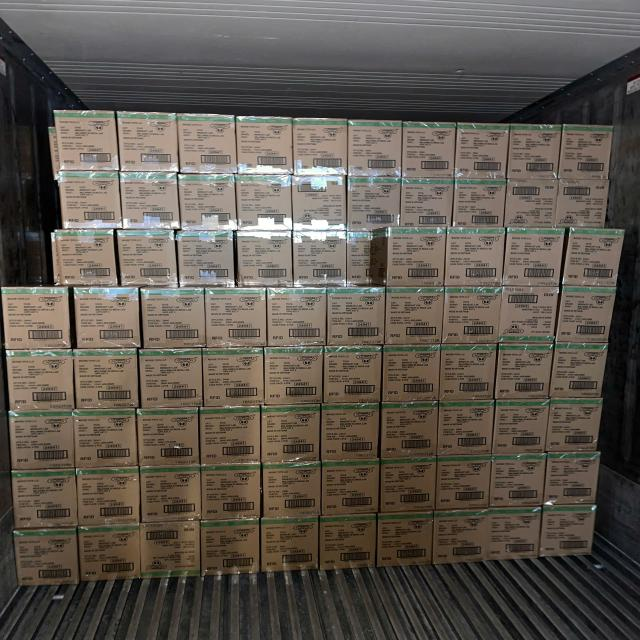Carton: (0, 289, 69, 349), (5, 351, 73, 410), (51, 116, 118, 175), (13, 532, 78, 589), (8, 413, 74, 469), (142, 294, 205, 352), (74, 350, 138, 407), (75, 469, 139, 526), (74, 296, 139, 352), (117, 118, 179, 176), (137, 410, 200, 467), (74, 411, 137, 468), (12, 473, 76, 529), (206, 294, 267, 352), (200, 409, 262, 466), (139, 350, 202, 406), (56, 175, 120, 230), (178, 118, 238, 176), (120, 176, 181, 233), (325, 344, 384, 402), (264, 346, 323, 404), (327, 290, 386, 348), (443, 229, 503, 286), (268, 293, 328, 350), (143, 522, 203, 579), (498, 285, 558, 342), (201, 348, 262, 404), (51, 230, 114, 284), (386, 290, 444, 348), (503, 234, 563, 290), (563, 234, 623, 290), (118, 233, 178, 289), (200, 523, 261, 578), (77, 528, 139, 582), (438, 343, 496, 400), (442, 288, 500, 345), (558, 287, 617, 343), (387, 232, 446, 288), (262, 407, 322, 462), (263, 464, 323, 519), (140, 469, 201, 523), (202, 467, 263, 521), (381, 344, 438, 401), (235, 121, 292, 178), (238, 178, 296, 234), (179, 176, 237, 232), (234, 234, 292, 290), (322, 405, 381, 460), (178, 235, 237, 290), (497, 344, 552, 401), (383, 403, 440, 458), (322, 460, 379, 515), (320, 518, 378, 572), (378, 459, 434, 514), (291, 178, 346, 234), (296, 121, 350, 178), (437, 402, 492, 457), (487, 506, 542, 561), (349, 123, 403, 179), (552, 344, 608, 398), (292, 232, 348, 286), (402, 123, 455, 180), (260, 520, 318, 572), (374, 518, 432, 570), (546, 456, 602, 508), (433, 512, 488, 564), (548, 399, 603, 451), (508, 126, 560, 180), (455, 127, 507, 180), (559, 126, 612, 178), (437, 459, 491, 510), (496, 402, 550, 452), (492, 458, 546, 508), (557, 181, 610, 230), (506, 180, 558, 228), (348, 181, 402, 227), (541, 508, 596, 553), (401, 182, 454, 228), (454, 184, 507, 228), (346, 232, 388, 285)
